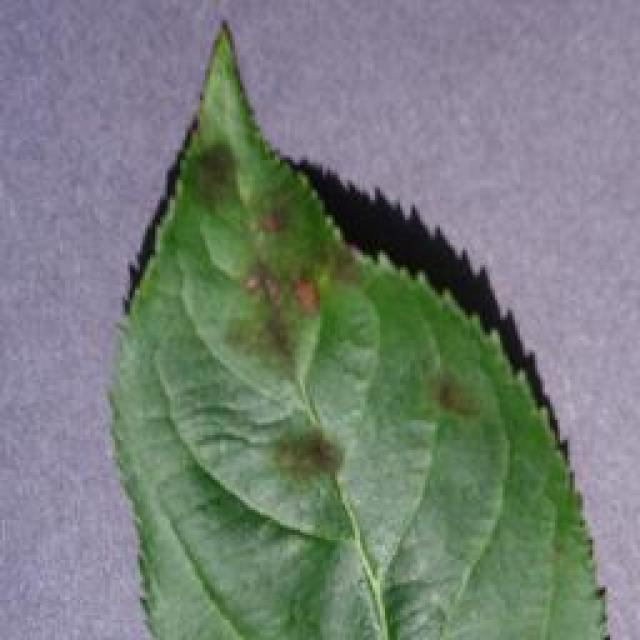apple scab disease: (103, 18, 615, 638)
